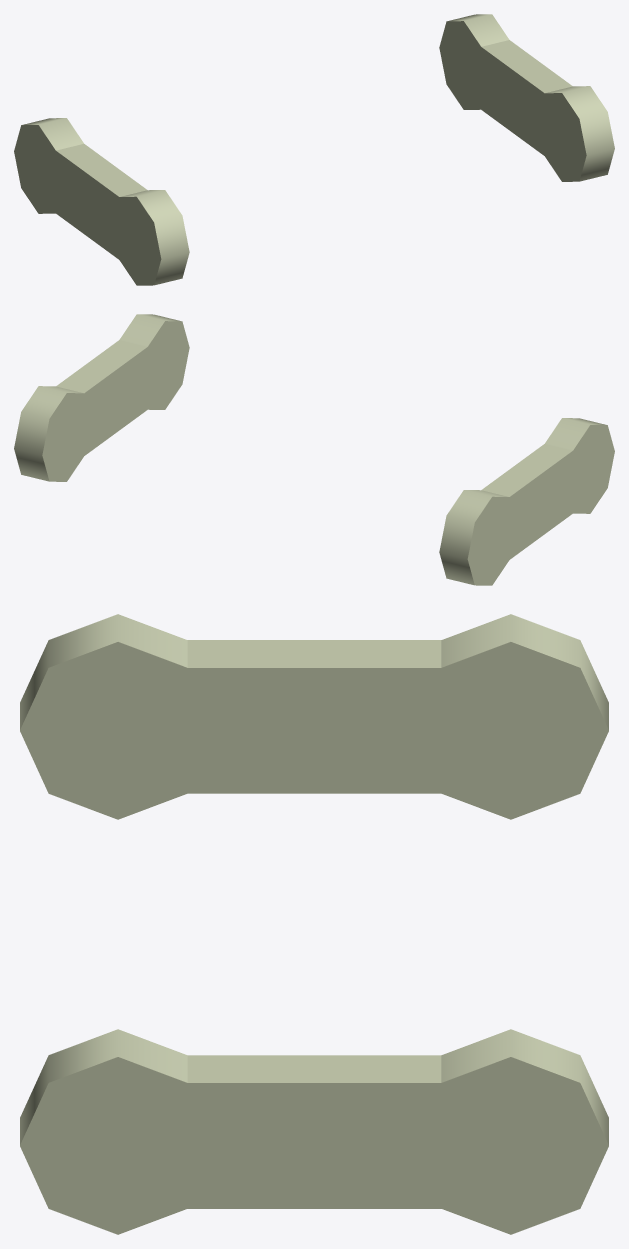
The model's file is prop_m_avionics_s0_1_arm.obj.
3 views of the same model, one above another, from view 1: azimuth 30°, elevation 25°; view 2: azimuth 150°, elevation 25°; view 3: azimuth 270°, elevation 25° (orthographic). The views are drawn at different scales.
Parts seen in each view (by area): view 1: mesh1; view 2: mesh1; view 3: mesh1.
Part boxes in pixels (x1,y1,x2,y2): mesh1: [14, 14, 614, 285]; mesh1: [14, 314, 614, 585]; mesh1: [20, 614, 608, 1234].
Size of the model in its own units: 0.2 by 0.0375 by 0.1125.
